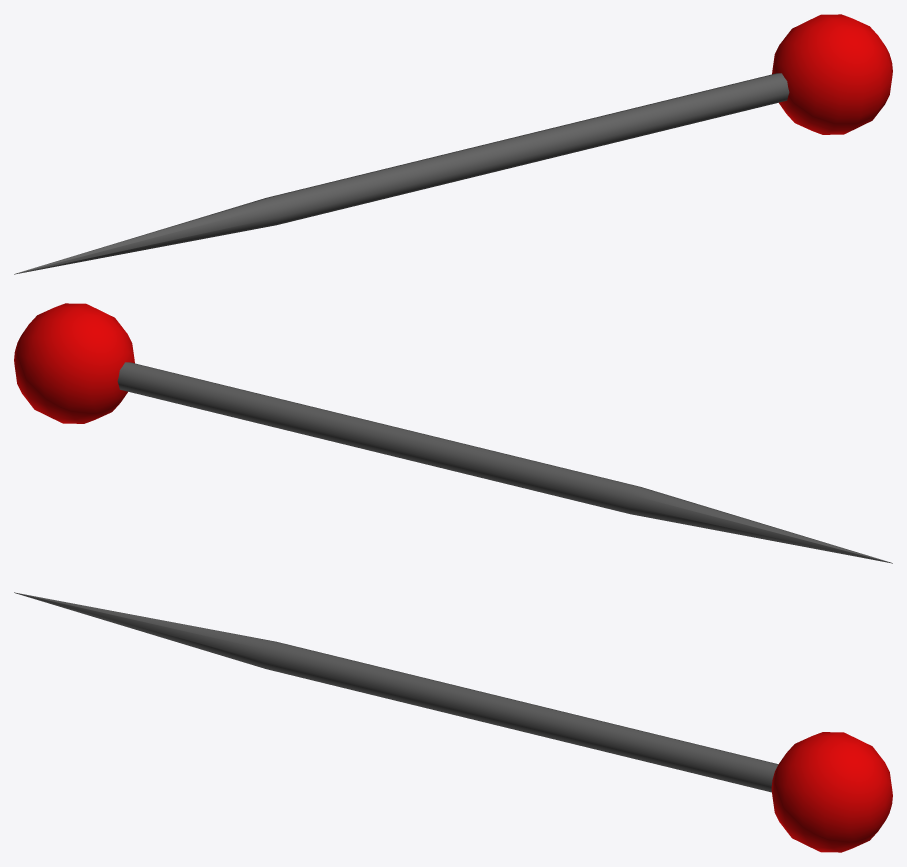
File: Pin.fbx
3 views of the same model, one above another, from view 1: azimuth 30°, elevation 25°; view 2: azimuth 150°, elevation 25°; view 3: azimuth 330°, elevation 25° (orthographic).
Parts seen in each view (by area): view 1: Cylinder.001, Sphere; view 2: Cylinder.001, Sphere; view 3: Cylinder.001, Sphere.
Boxes of the visible parts, x1,y1,x2,y2 form: Cylinder.001: (14, 73, 789, 274); Sphere: (772, 14, 892, 134); Cylinder.001: (117, 362, 892, 563); Sphere: (14, 303, 134, 423); Cylinder.001: (14, 592, 778, 792); Sphere: (771, 732, 892, 852).
Size of the model in its own units: 58.99 by 7.18 by 7.18.
